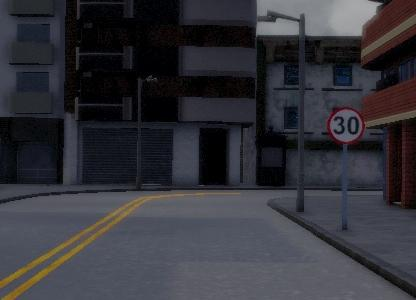Speed_30: (327, 105, 367, 146)
